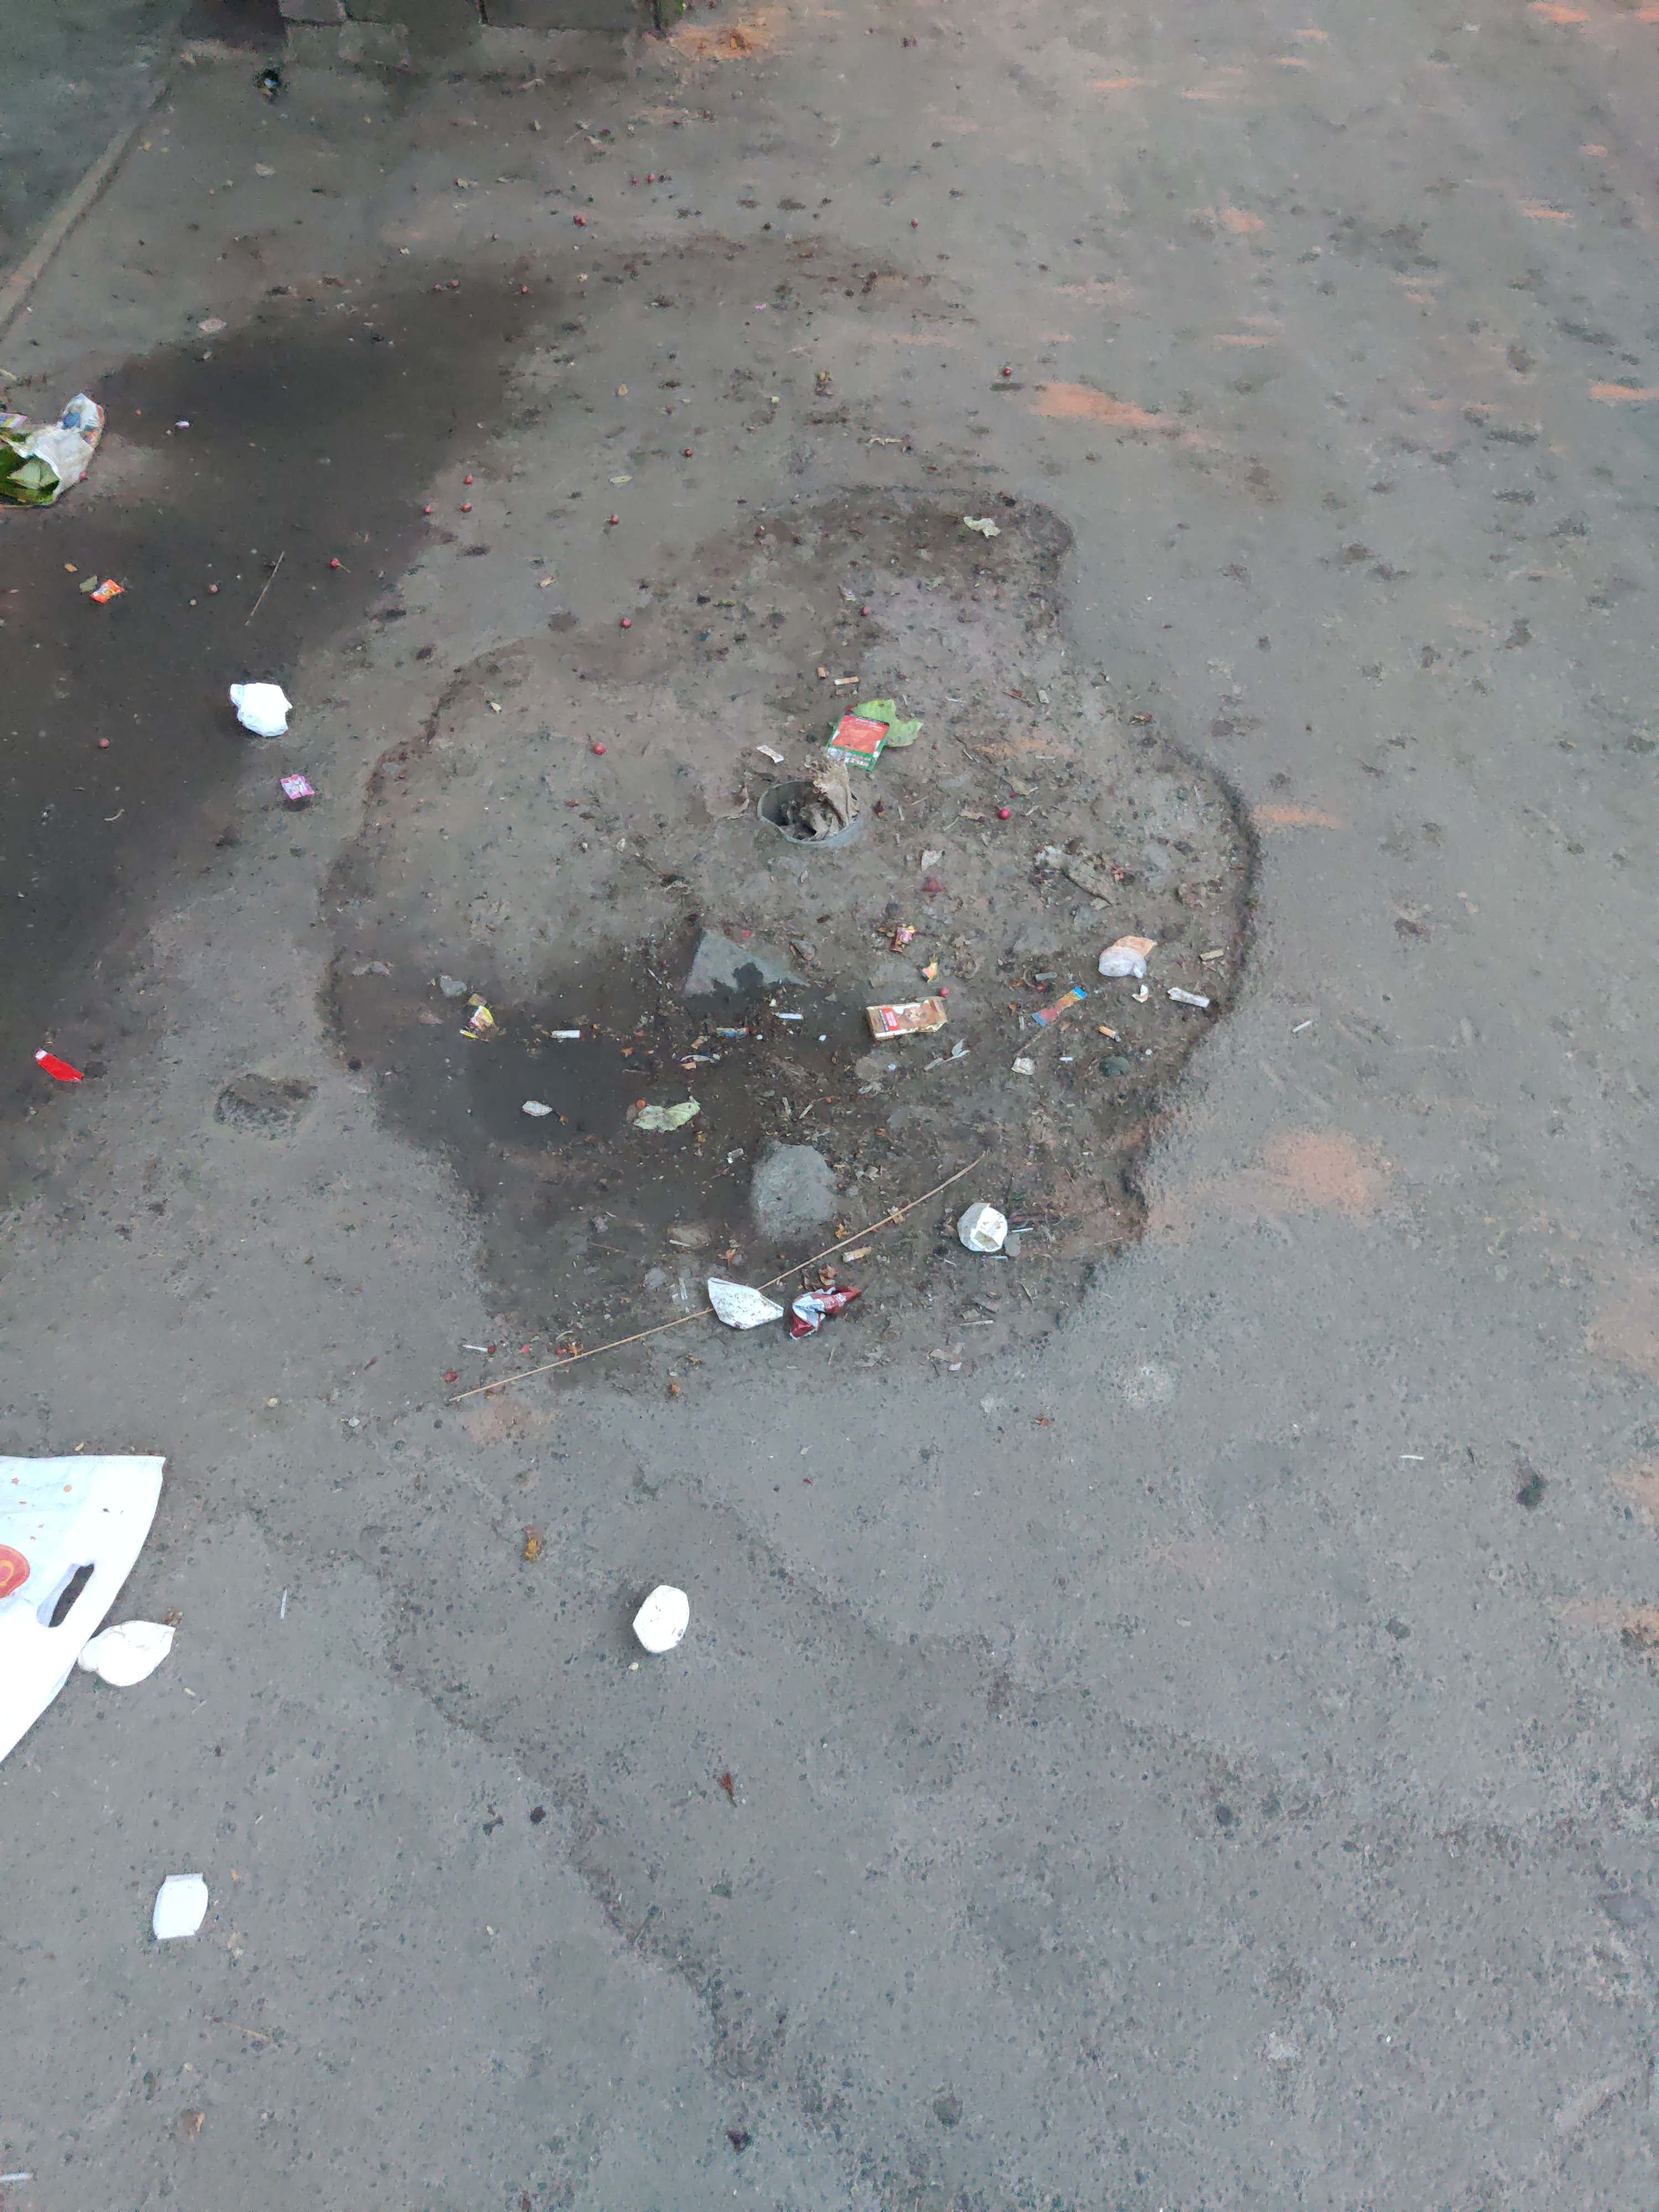potholes: (293, 500, 1270, 1357)
